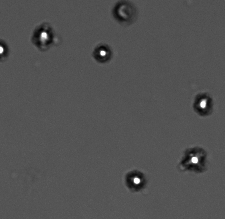Dead Cell: (112, 1, 137, 24)
Living Cell: (179, 145, 207, 173), (30, 22, 56, 51), (124, 168, 148, 193), (192, 92, 215, 116), (92, 42, 114, 63), (1, 39, 9, 64)
